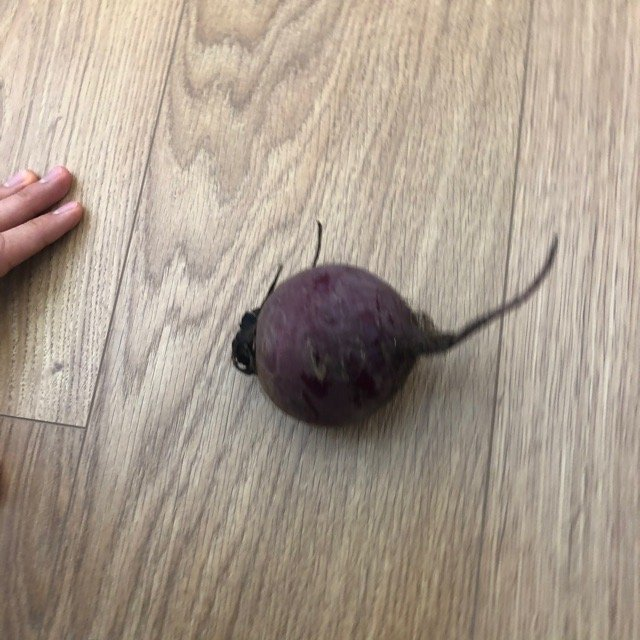beet: (233, 222, 559, 423)
